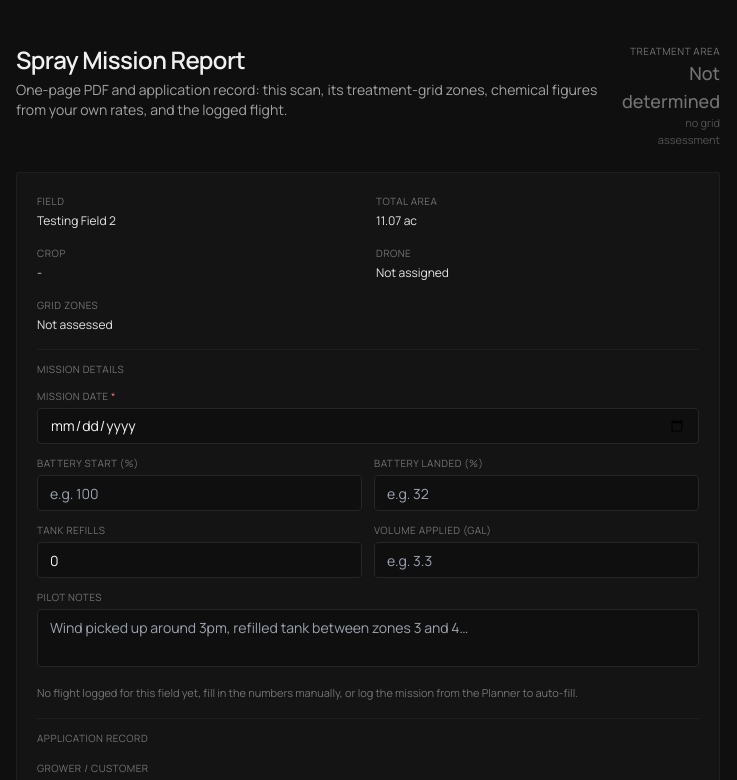
mission date validation › flags a future mission date and disables generation
Type "2027-04-24" into the date field at (368, 426), box [37,408,699,444]
(page scrolled)
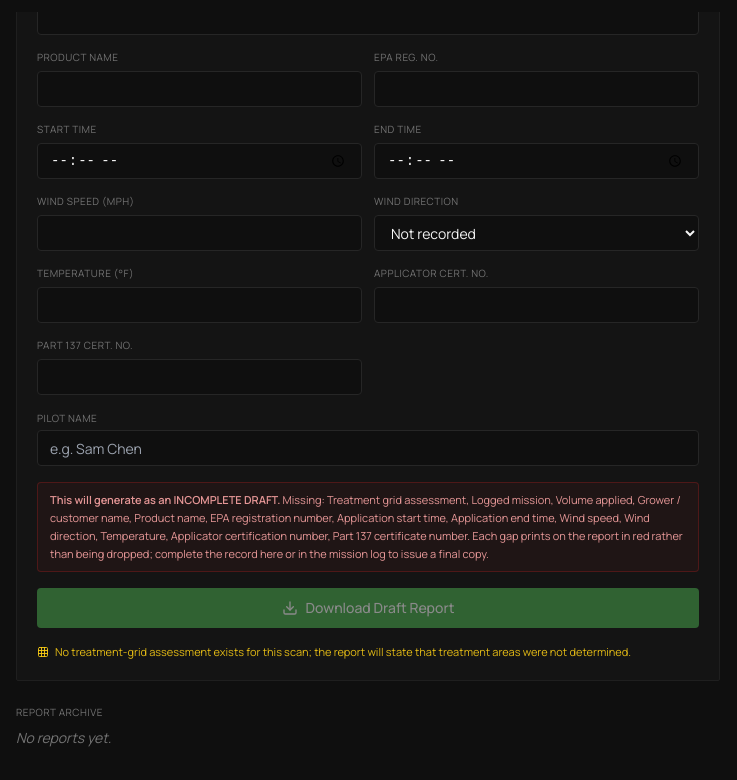
Expected: the button "Download Draft Report" is disabled, [37,588,699,628]
